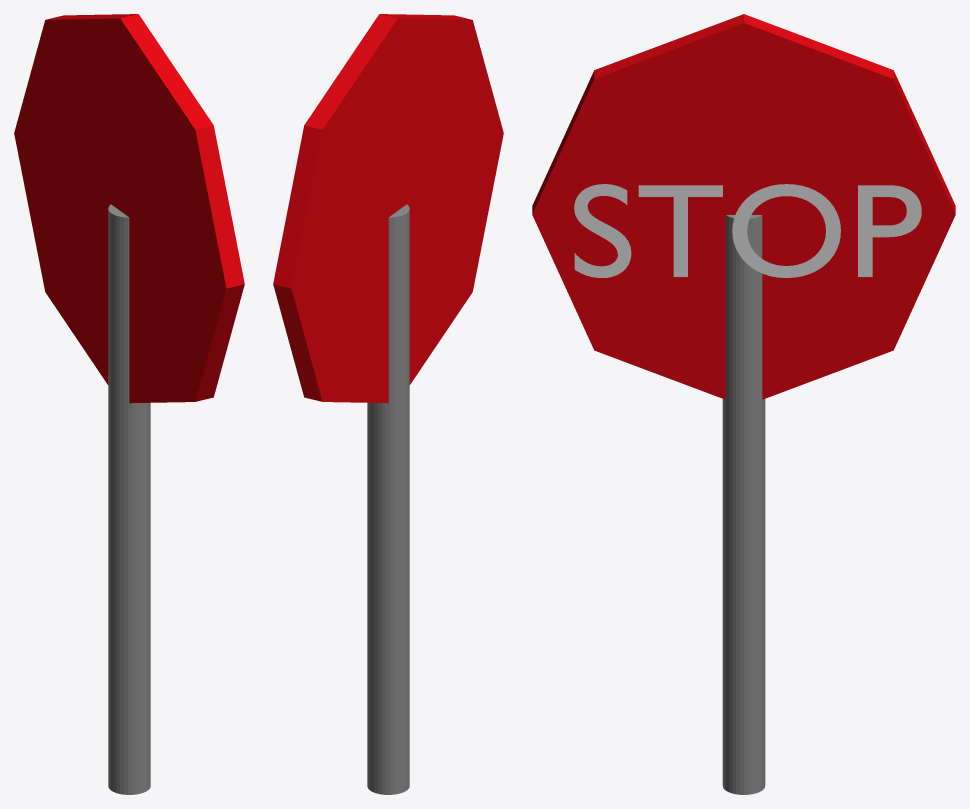
The model's file is StopSign.fbx.
The picture shows the model from 3 angles, left to right: view 1: azimuth 30°, elevation 25°; view 2: azimuth 150°, elevation 25°; view 3: azimuth 270°, elevation 25°; orthographic projection.
Visible parts, largest first — view 1: Cylinder, Cylinder.001; view 2: Cylinder, Cylinder.001; view 3: Cylinder, Cylinder.001, Text.
Part boxes in pixels (x1,y1,x2,y2): Cylinder: (14, 14, 244, 403); Cylinder.001: (108, 204, 150, 794); Cylinder: (273, 14, 503, 403); Cylinder.001: (367, 204, 409, 794); Cylinder: (532, 14, 955, 399); Cylinder.001: (722, 215, 765, 794); Text: (574, 184, 921, 277).
Size of the model in its own units: 20 by 400 by 200.
